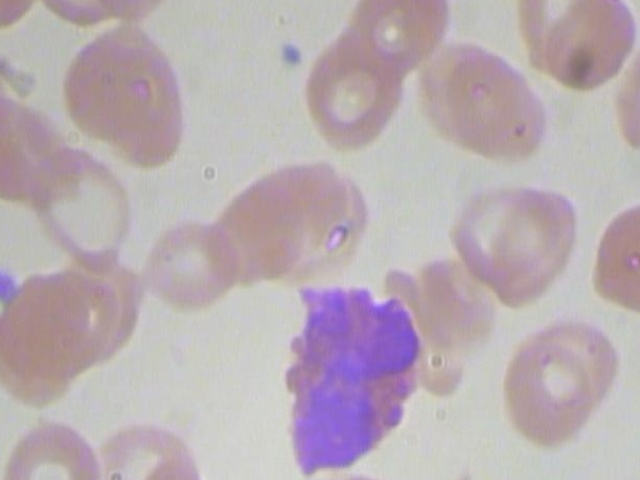Platelets: (268, 34, 310, 71), (0, 268, 22, 308)
RBC: (54, 15, 193, 182), (29, 139, 137, 277), (298, 29, 410, 149), (497, 337, 603, 457), (439, 47, 544, 167), (445, 184, 565, 289), (538, 0, 640, 98), (343, 0, 453, 86), (143, 218, 234, 313), (583, 200, 640, 322), (0, 418, 107, 480), (132, 440, 218, 480), (615, 41, 640, 153), (445, 477, 543, 480)
WBC: (255, 274, 451, 480)
